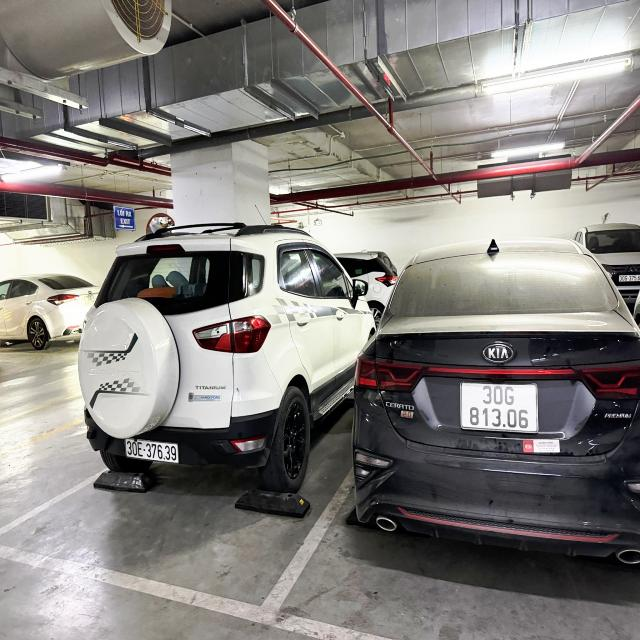license_plate: (461, 382, 539, 434), (125, 439, 180, 465)
